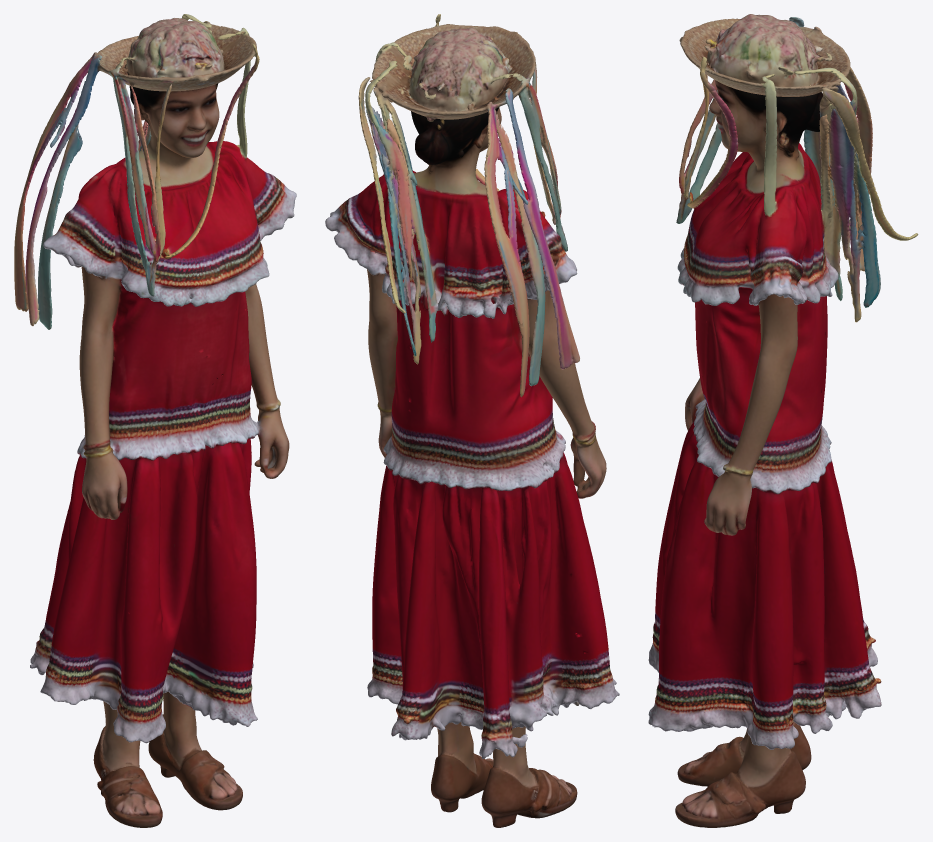
The model's file is macheteromujer.glb.
3 views of the same model, side by side, from view 1: azimuth 30°, elevation 25°; view 2: azimuth 150°, elevation 25°; view 3: azimuth 270°, elevation 25° (orthographic). The views are drawn at different scales.
Parts seen in each view (by area): view 1: tripo_node_c6b9c42e-5f5f-4079-a054-b4acb07f27bd; view 2: tripo_node_c6b9c42e-5f5f-4079-a054-b4acb07f27bd; view 3: tripo_node_c6b9c42e-5f5f-4079-a054-b4acb07f27bd.
Boxes of the visible parts, <box> form: tripo_node_c6b9c42e-5f5f-4079-a054-b4acb07f27bd: <box>14,14,296,827</box>; tripo_node_c6b9c42e-5f5f-4079-a054-b4acb07f27bd: <box>325,14,619,827</box>; tripo_node_c6b9c42e-5f5f-4079-a054-b4acb07f27bd: <box>648,14,918,827</box>.
Bounding box in the file's own units: 0.3672 × 1 × 0.3091.
1 material, 1 textured.
